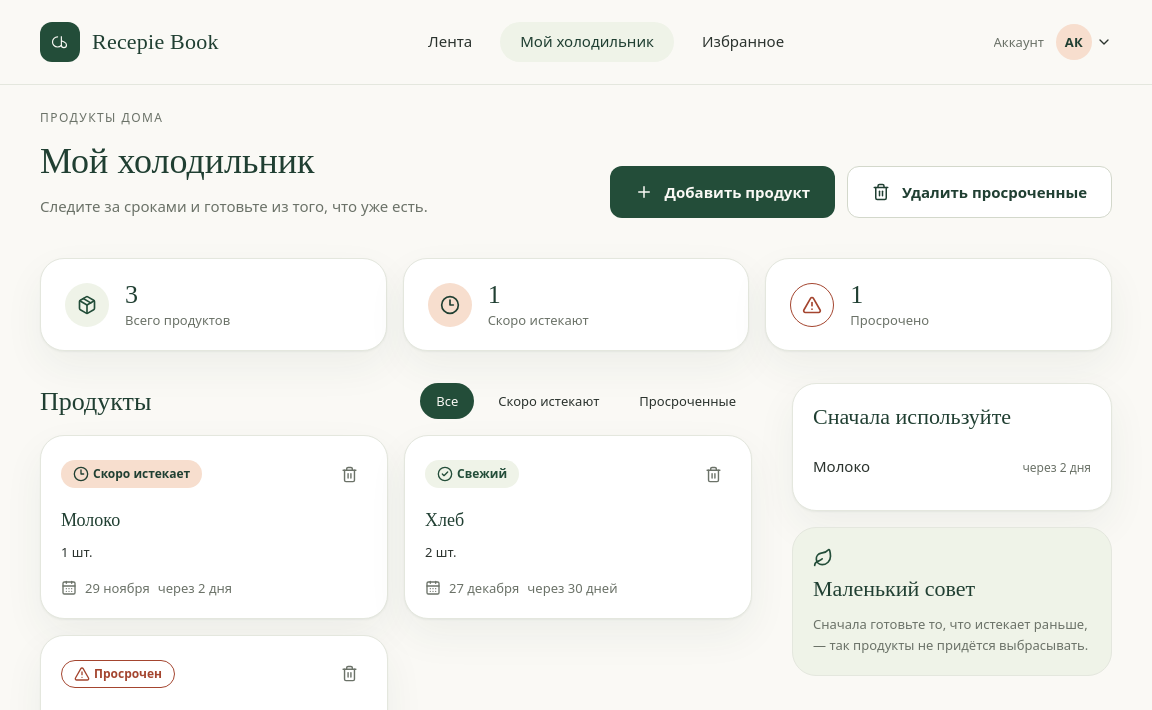
Scenario: fridge page › shows an error when a product cannot be deleted
Expected: the heading "Молоко" is shown, [61,510,120,530]
Click the button named "Удалить Молоко".
click(349, 474)  # box [331,456,367,492]
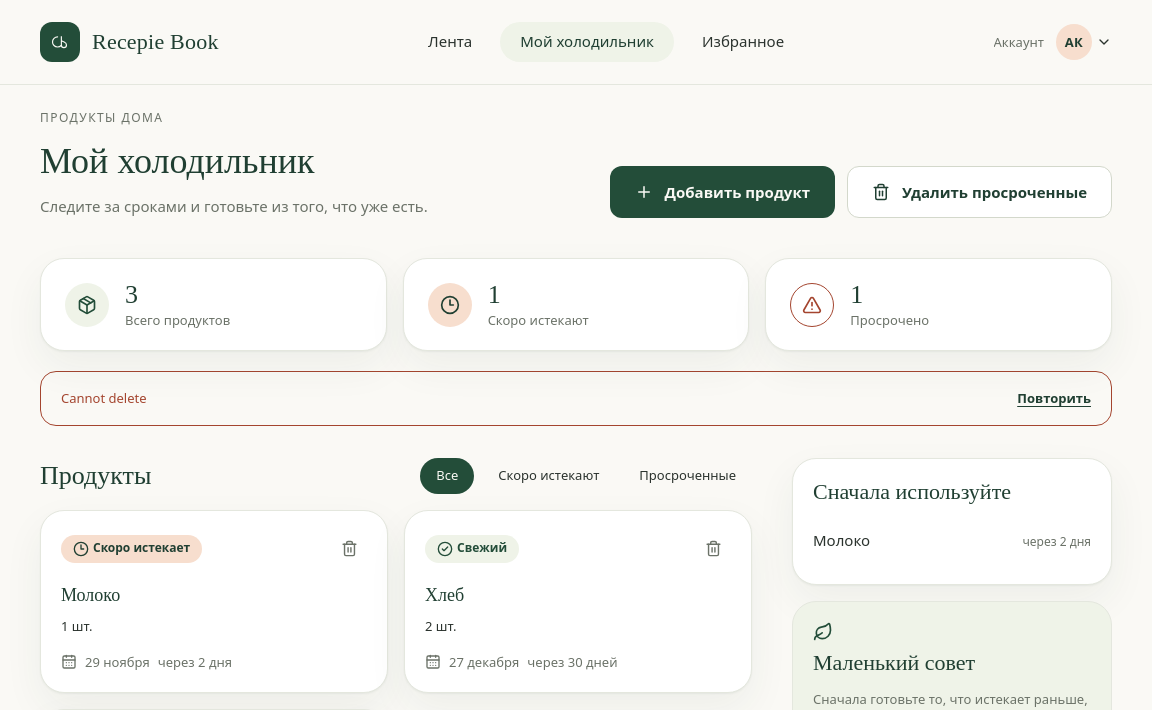
Expected: the message shows "Cannot delete", [61,389,147,407]
